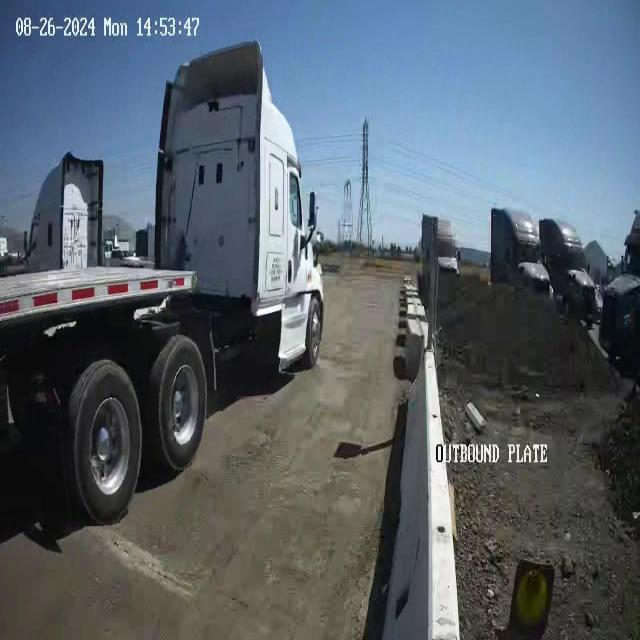BOBTAIL: (1, 37, 325, 527)
